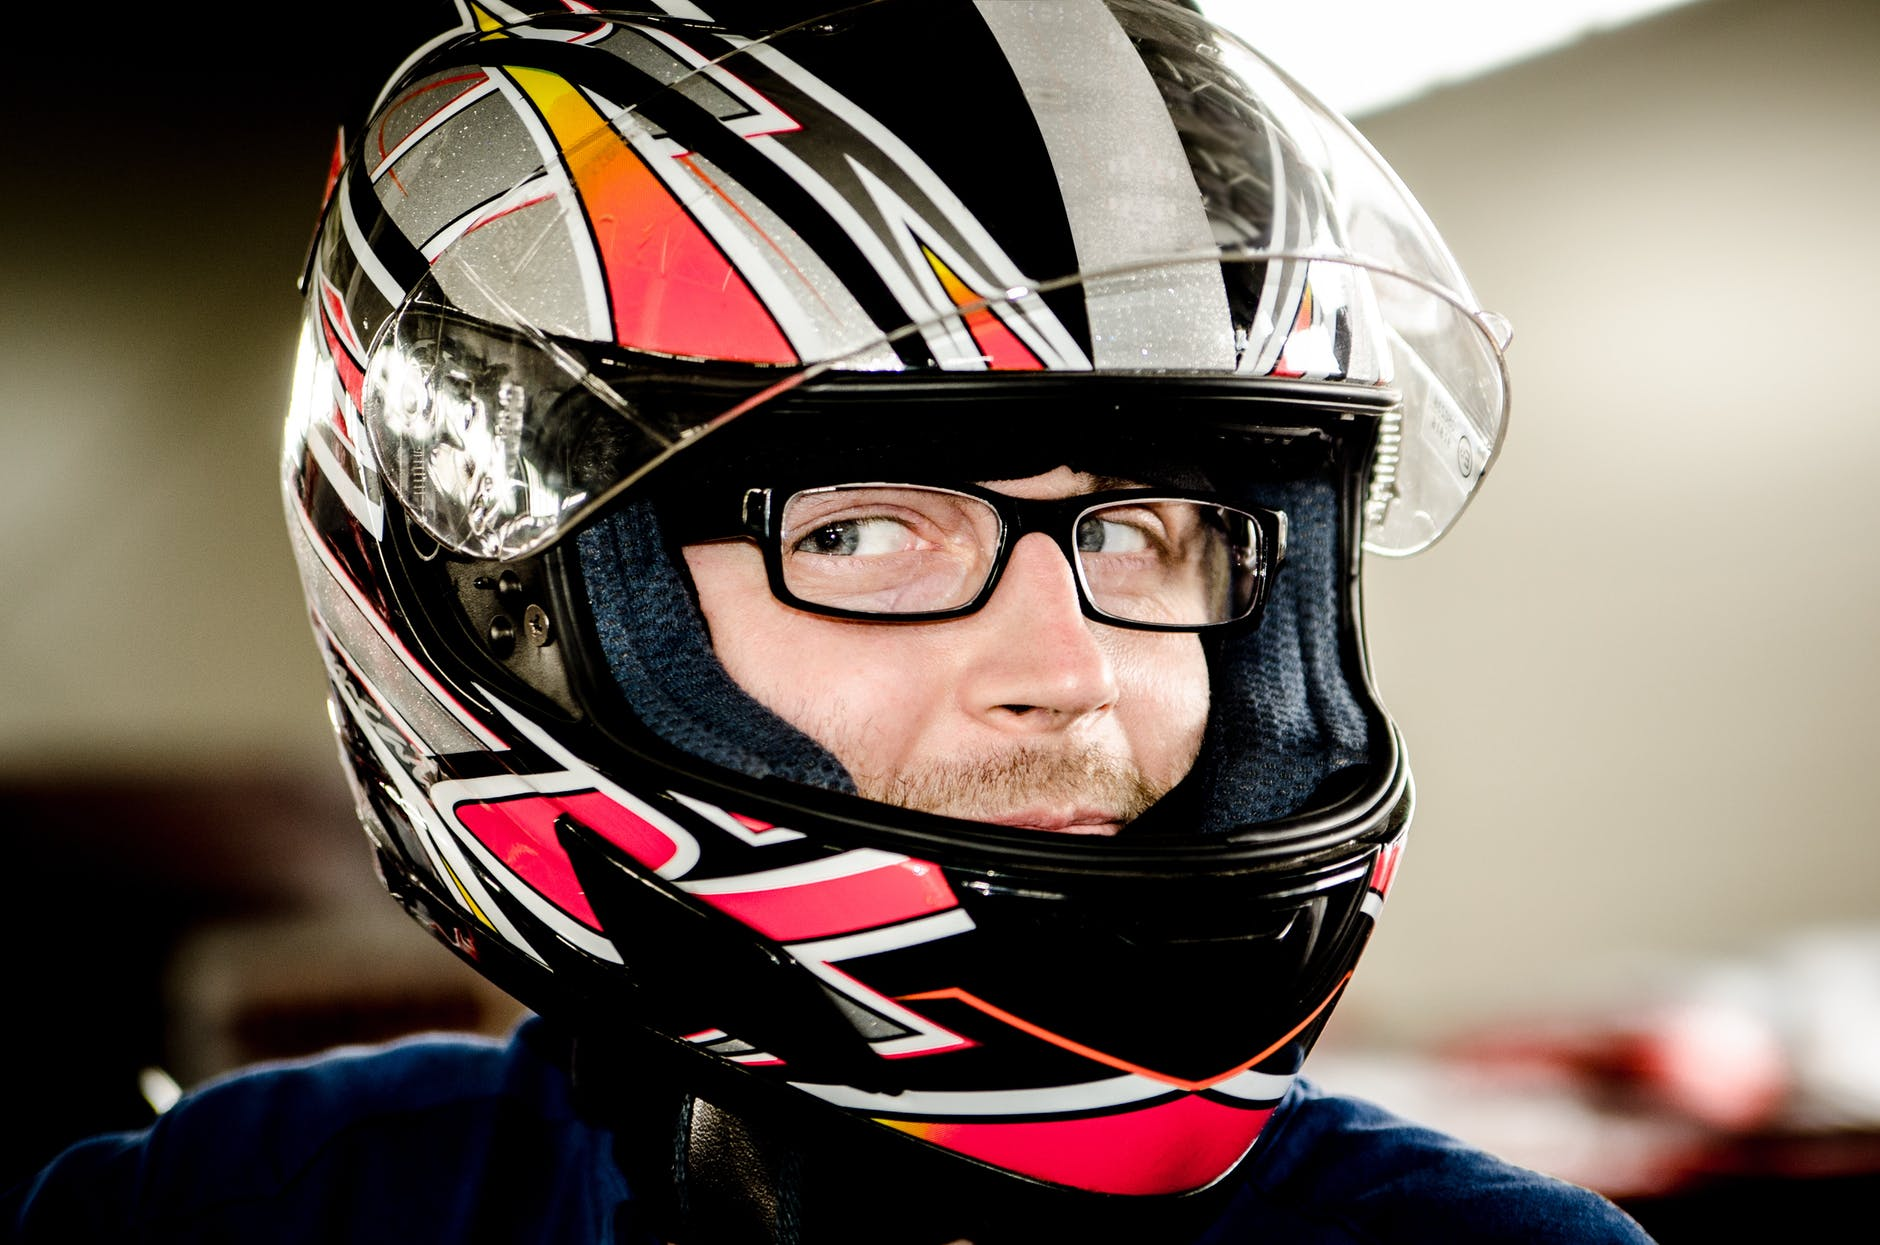helmet: (300, 42, 1423, 1171)
